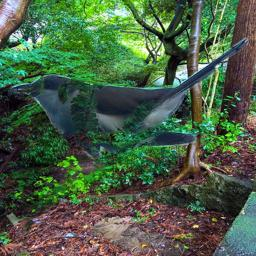Cuckoo: (8, 36, 256, 160)
